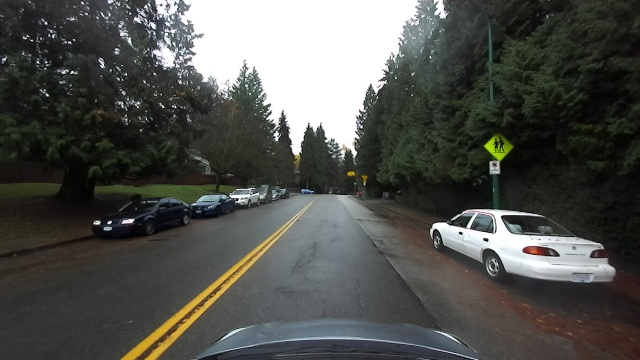car: (427, 203, 618, 287), (88, 194, 193, 237), (190, 191, 235, 217), (227, 185, 261, 207), (257, 183, 273, 204), (278, 188, 291, 198), (300, 187, 315, 195)
